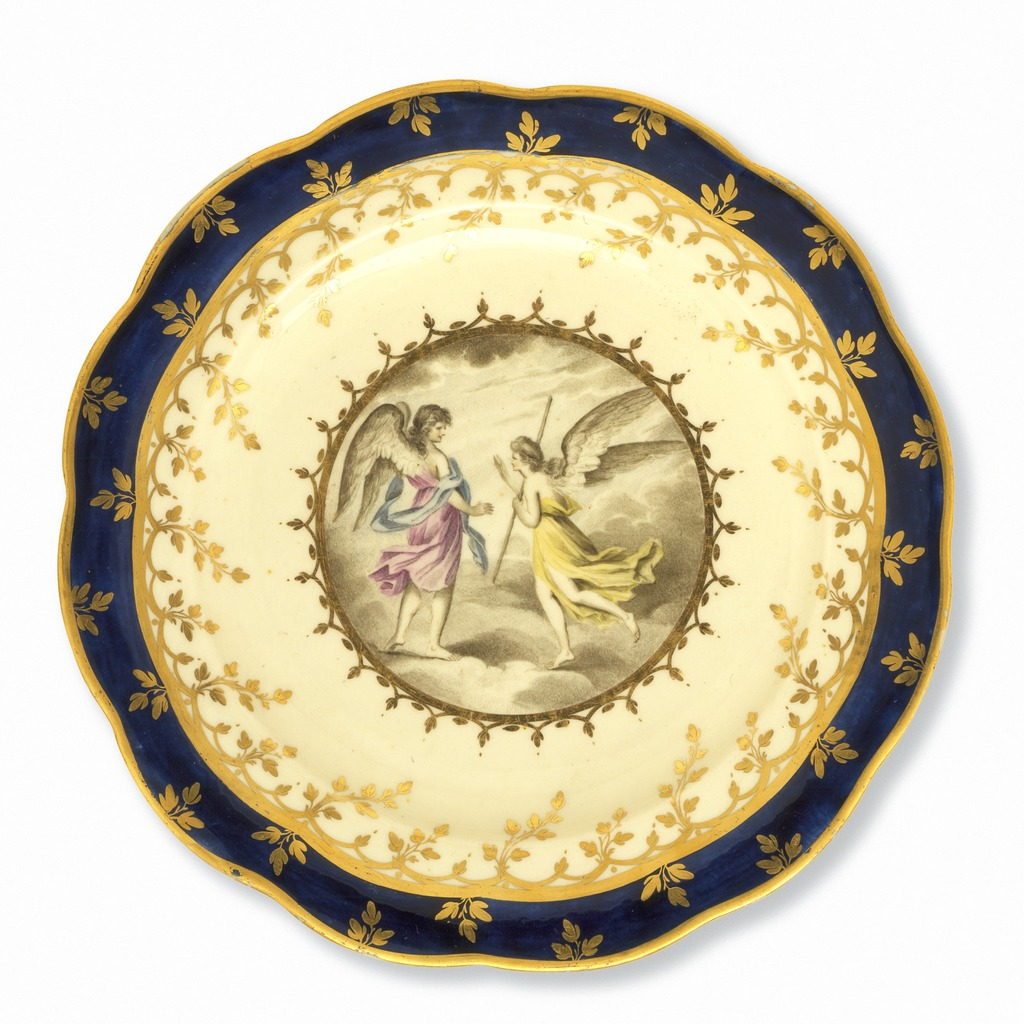plate: (46, 64, 994, 972)
